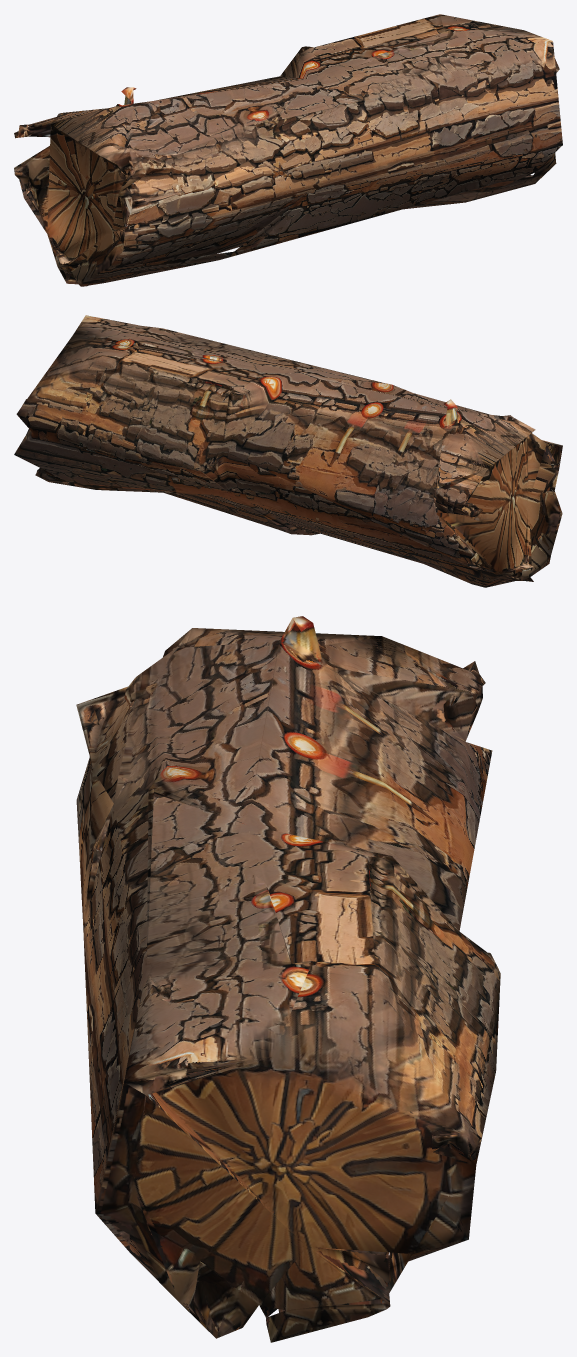
Rendered from Crop_Mushroom_Sprout.fbx.
3 views of the same model, one above another, from view 1: azimuth 30°, elevation 25°; view 2: azimuth 150°, elevation 25°; view 3: azimuth 270°, elevation 25° (orthographic). The views are drawn at different scales.
Parts seen in each view (by area): view 1: texture_mapping; view 2: texture_mapping; view 3: texture_mapping.
Part boxes in pixels (box(x1,y1,x2,y2)): texture_mapping: box(14, 14, 562, 286); texture_mapping: box(14, 315, 562, 587); texture_mapping: box(76, 616, 500, 1342).
Size of the model in its own units: 0.9786 by 0.3825 by 0.3584.
1 material, 1 textured.
